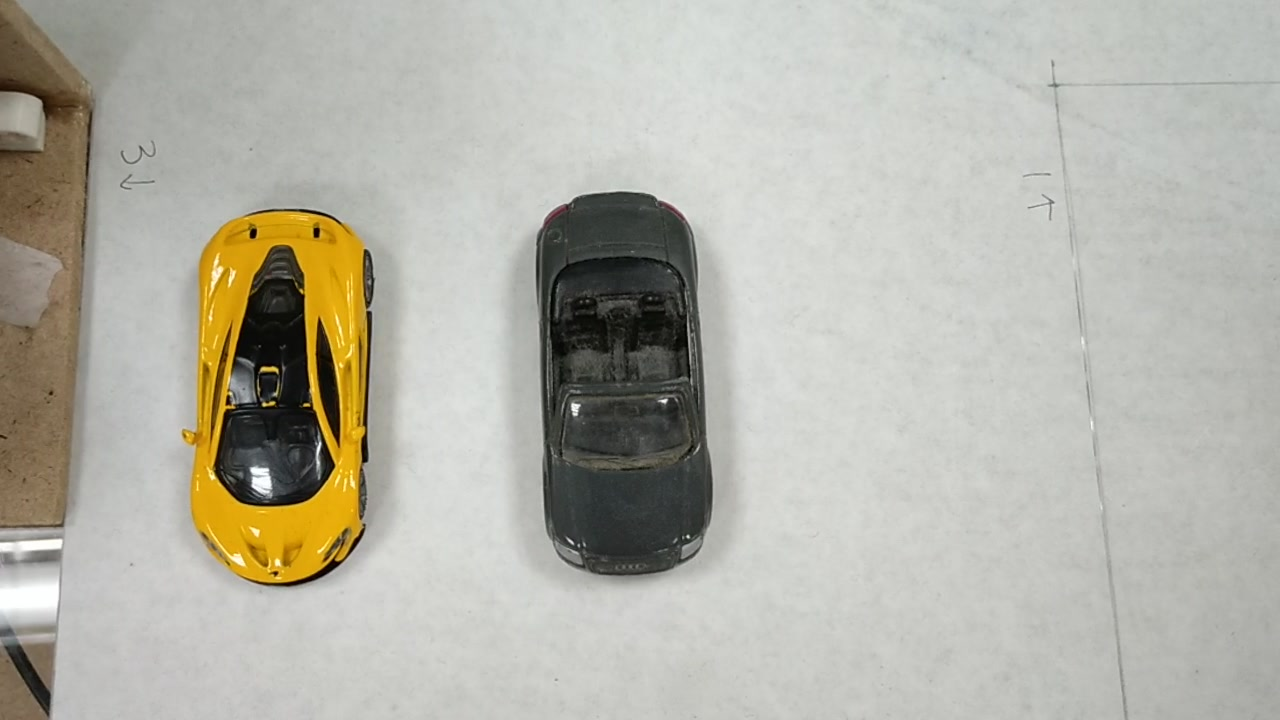car: (187, 208, 381, 585), (540, 186, 708, 568)
